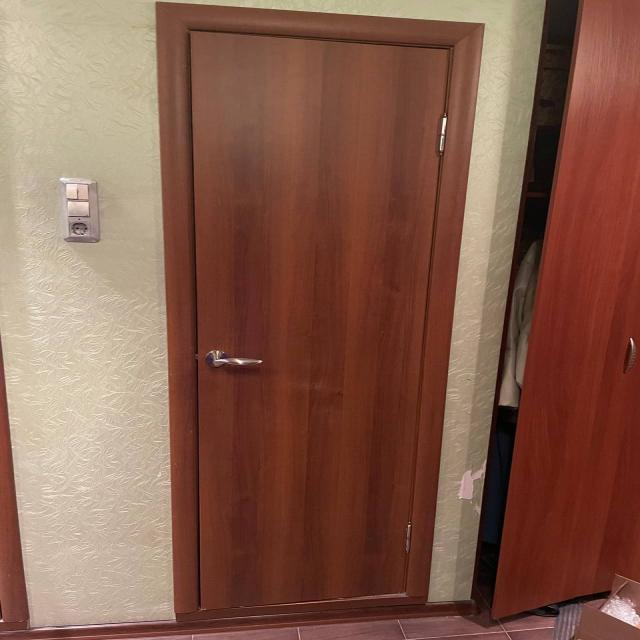close: (168, 15, 439, 622)
